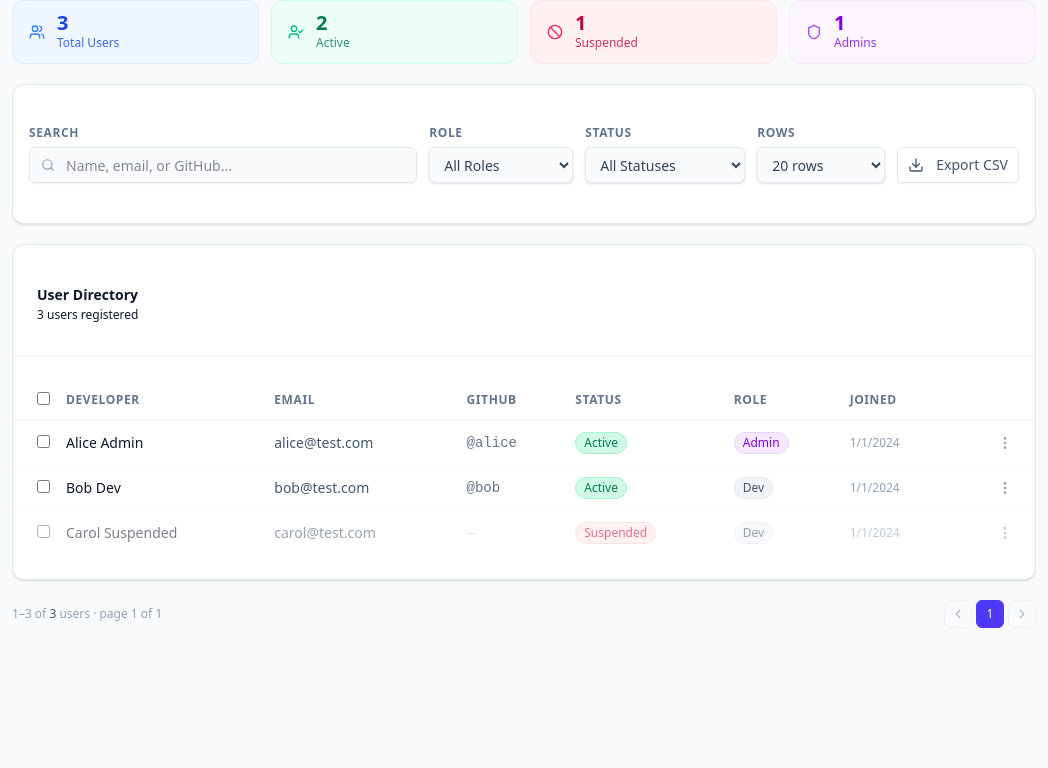
Test: UserDirectory › filtering by 'Admin only' hides DEV-role rows in the table
The width and height of the screenshot is (1048, 768).
Expected: the text "Alice Admin" is shown, x1=58 y1=420 x2=266 y2=466
Note: Change the Role filter
Select "Admin only" in the 1st dropdown showing "All Roles" at (501, 165), box x1=429 y1=147 x2=573 y2=183
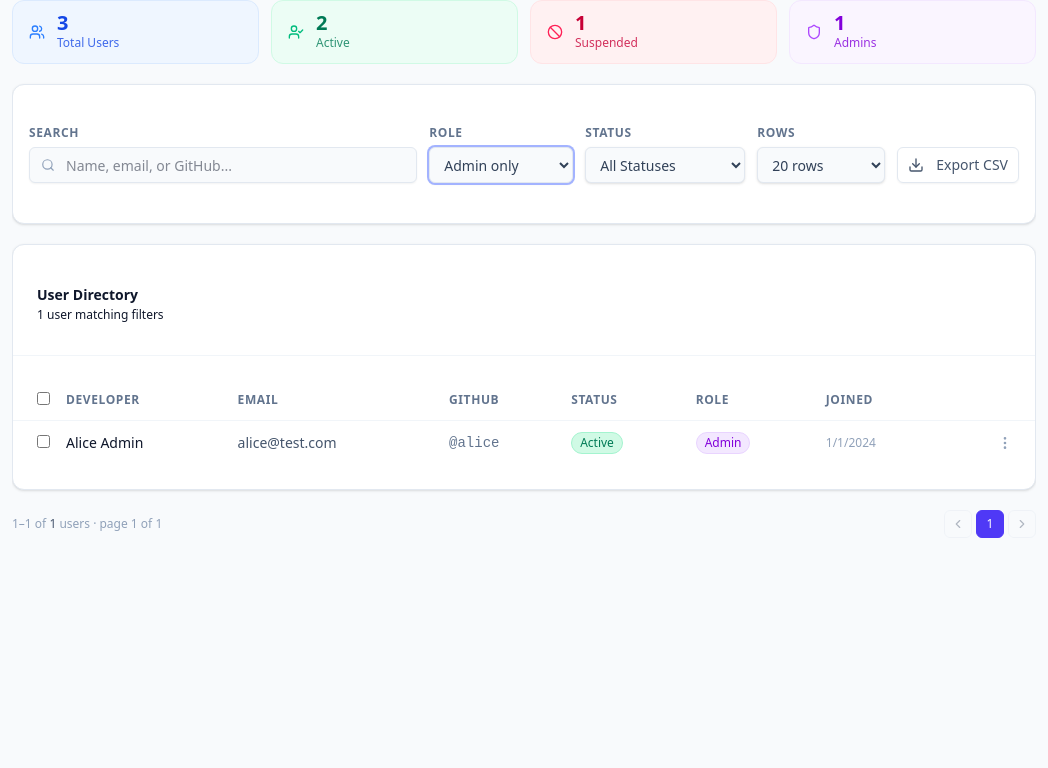
Expected: the text "Alice Admin" is shown, x1=58 y1=420 x2=230 y2=465
Expected: the text "Bob Dev" is gone
